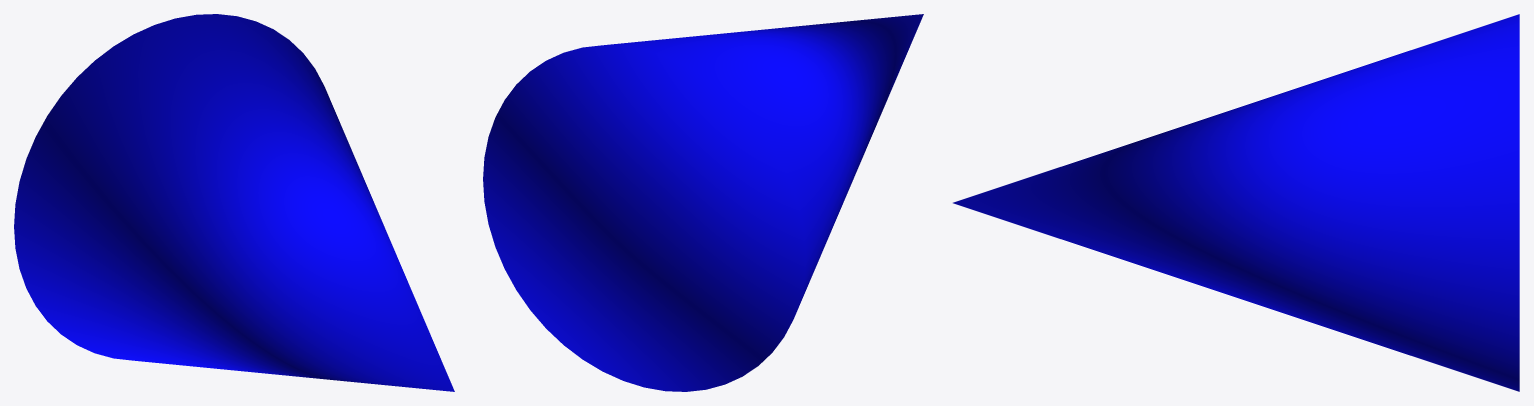
Rendered from cone_blue.obj.
The picture shows the model from 3 angles, left to right: view 1: azimuth 30°, elevation 25°; view 2: azimuth 150°, elevation 25°; view 3: azimuth 270°, elevation 25°; orthographic projection.
Parts seen in each view (by area): view 1: obj_0; view 2: obj_0; view 3: obj_0.
Part boxes in pixels (bbox=[...]): obj_0: bbox=[14, 14, 454, 391]; obj_0: bbox=[483, 14, 923, 391]; obj_0: bbox=[953, 14, 1519, 391].
Bounding box in the file's own units: 20 × 20 × 30.
